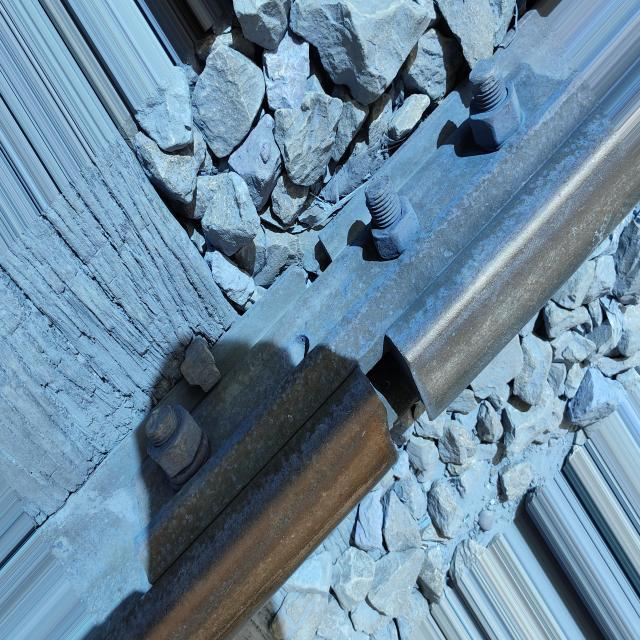Defective Joint: (47, 74, 596, 619)
Good Fasteners: (181, 336, 220, 391)
